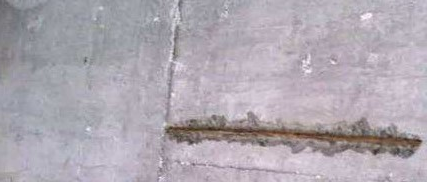Exposed reinforcement: (167, 126, 422, 147)
Spalling: (165, 111, 423, 160)
